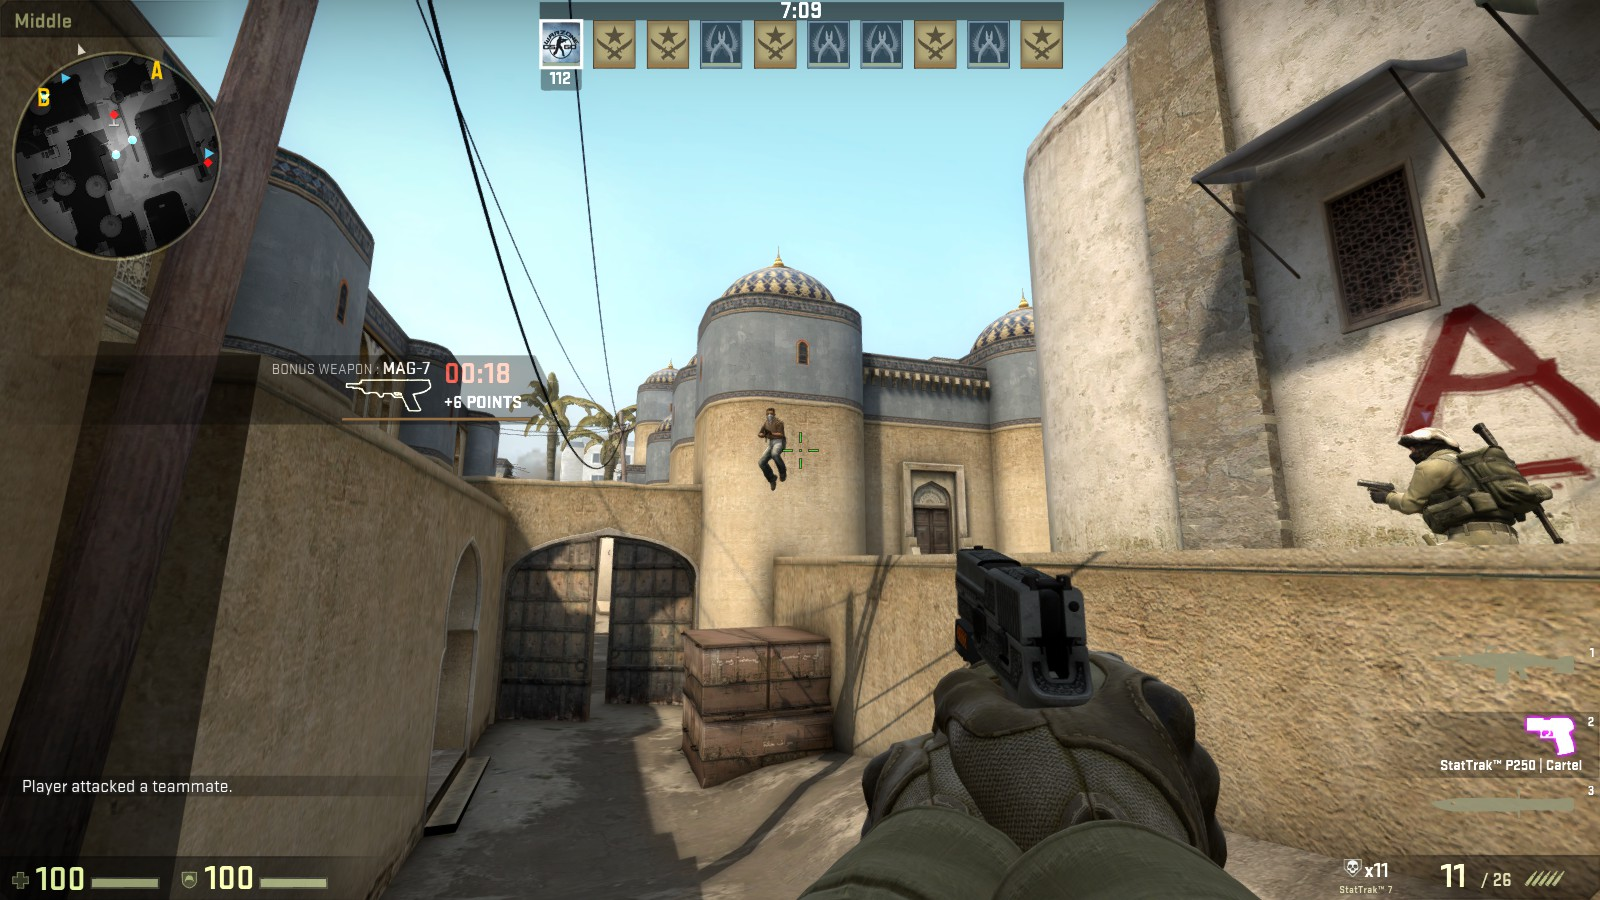c: (1393, 424, 1526, 545)
ch: (1397, 424, 1456, 462)
t: (758, 407, 786, 491)
th: (765, 408, 777, 424)
